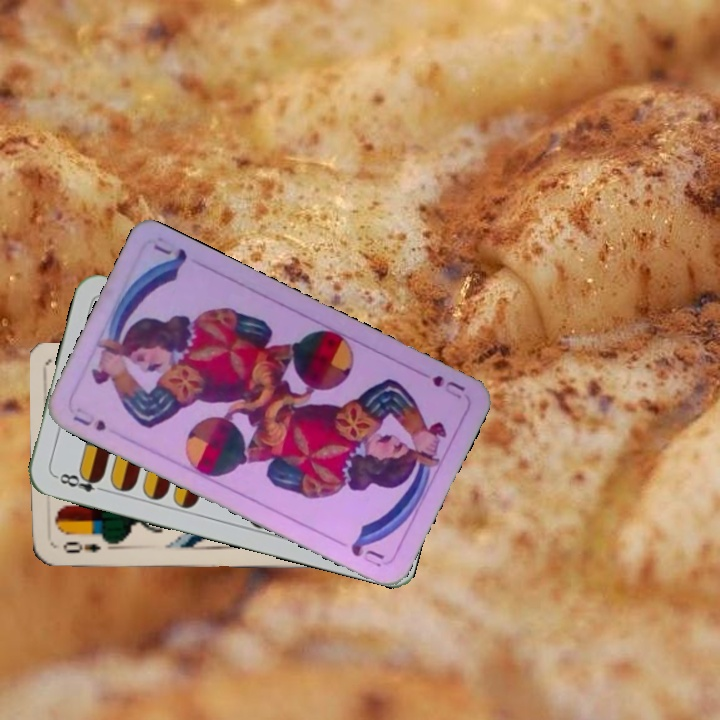E8: (51, 468, 109, 495)
EO: (59, 537, 103, 556)
SU: (412, 366, 468, 402), (69, 403, 109, 434)
